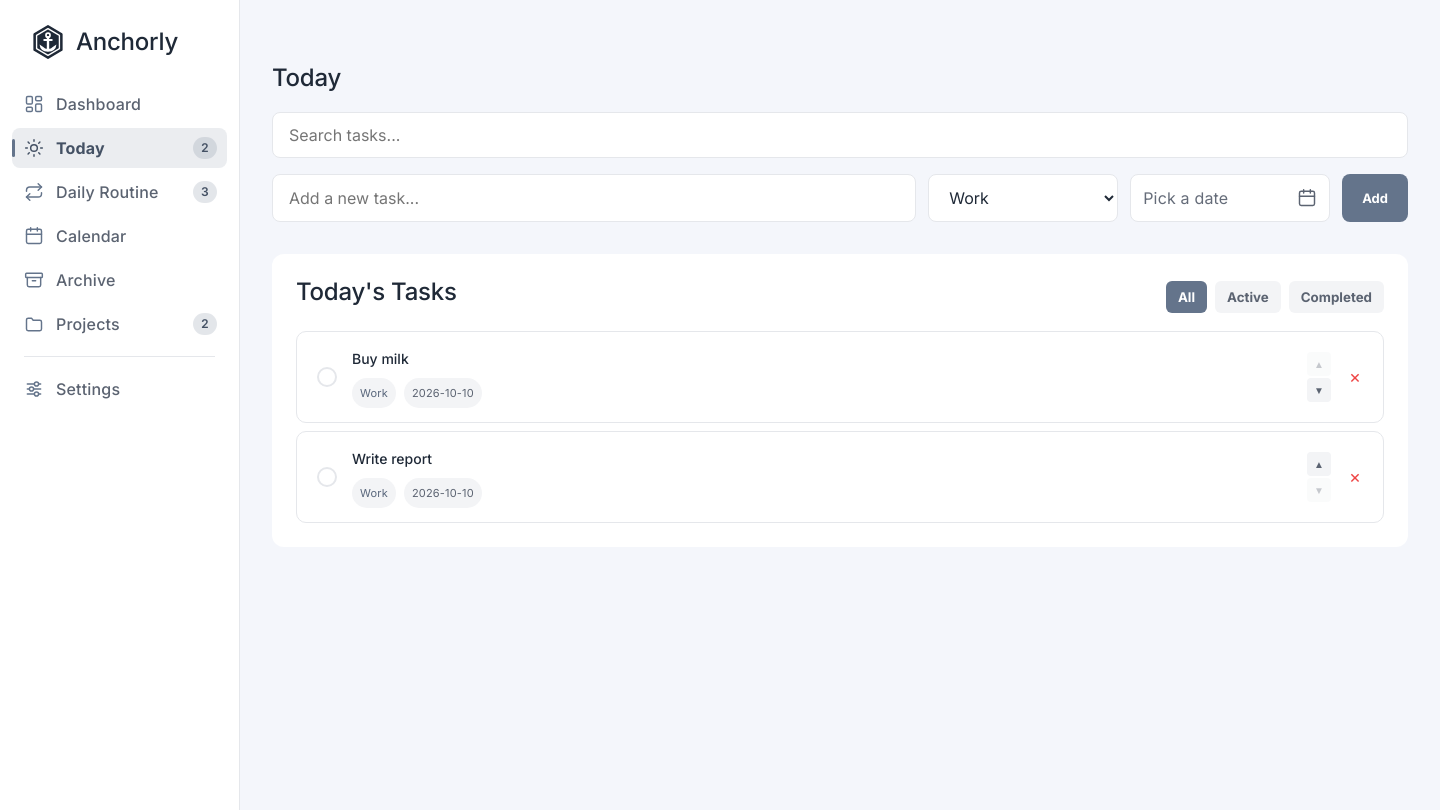
Test: App searching and filtering tasks › shows only the tasks that match the search text
Type "MILK" into the field with placeholder "Search tasks..." at [840, 135], box [272,112,1408,158]
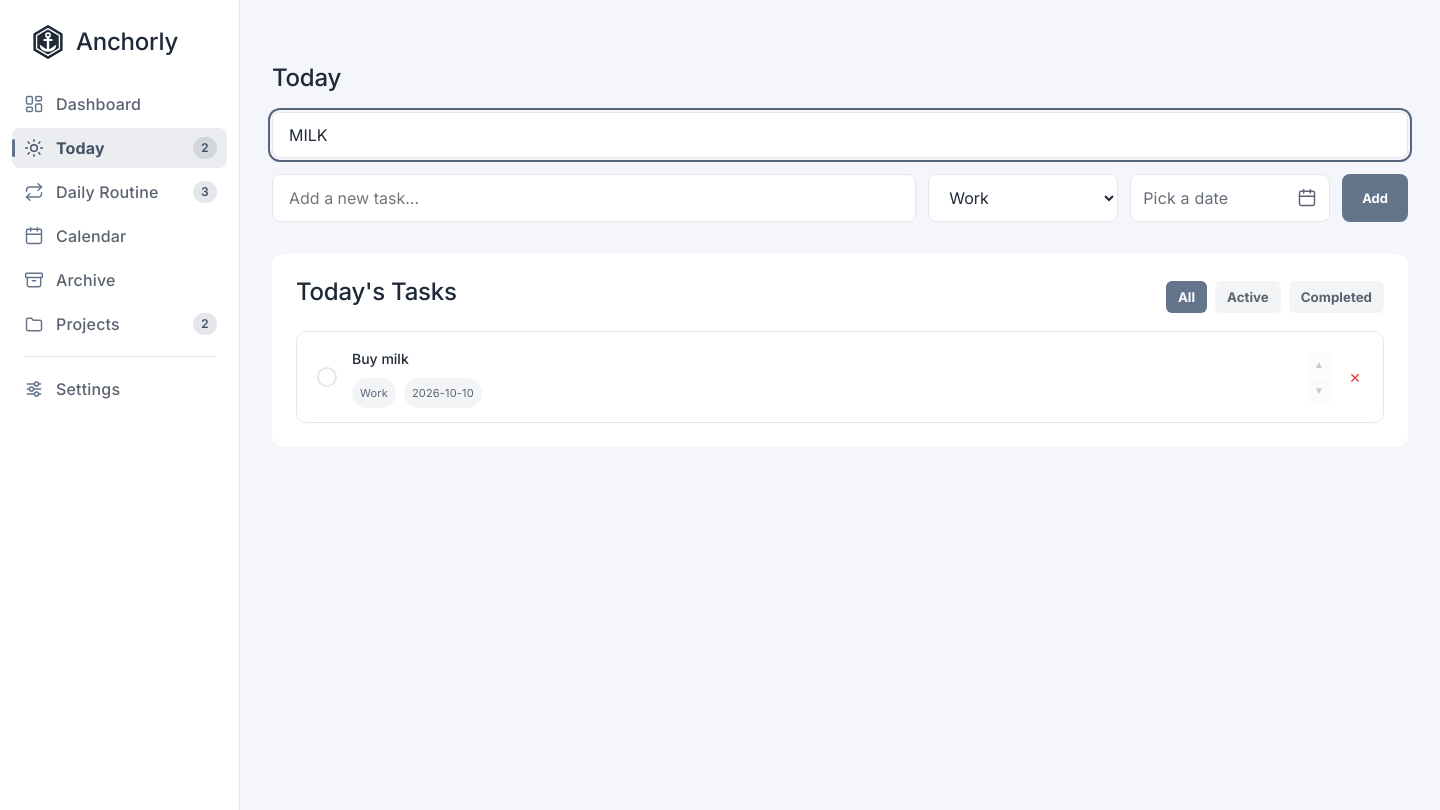
Expected: the list item "Buy milk" is shown, [352,346,409,372]
Now the button "Write report" is gone
